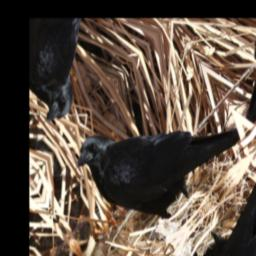Crow: (69, 36, 244, 256)
